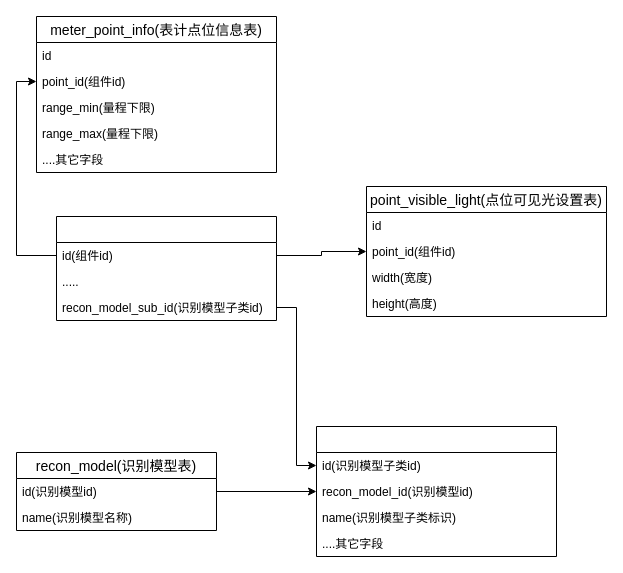
The diagram is 623 pixels wide and 573 high, and some of its shapes have lost their labels. Here are the shapes that lost their labels. From the top down, the box of each, then its label:
(56, 216, 276, 320): point(组件表)
(316, 426, 556, 556): recon_model_sub(识别模型子类表)
